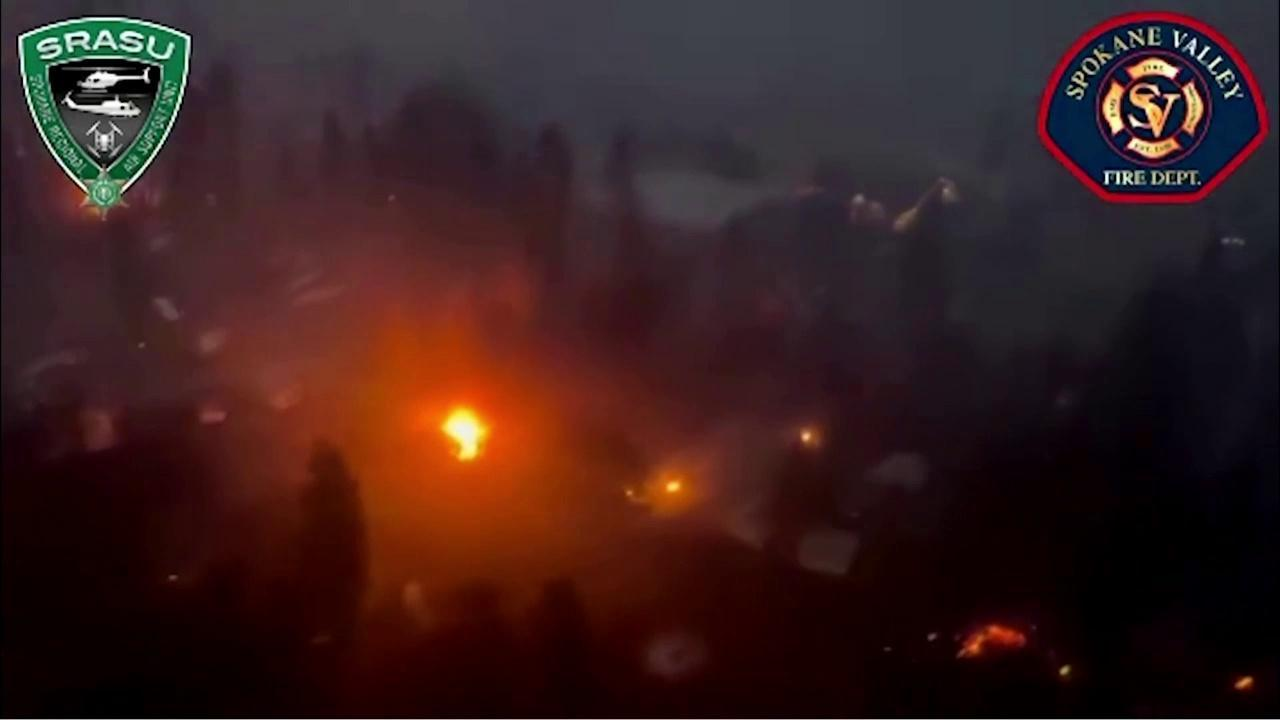fire: (429, 404, 495, 469), (951, 620, 1030, 661), (1232, 669, 1255, 697), (661, 476, 682, 499), (1053, 661, 1075, 682), (794, 428, 816, 445)
smoke: (1, 0, 1272, 720)
